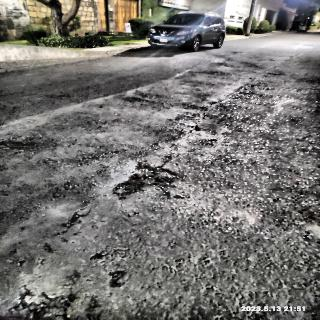crack: (4, 264, 99, 320), (116, 152, 183, 218), (0, 125, 36, 177), (288, 191, 320, 247)
